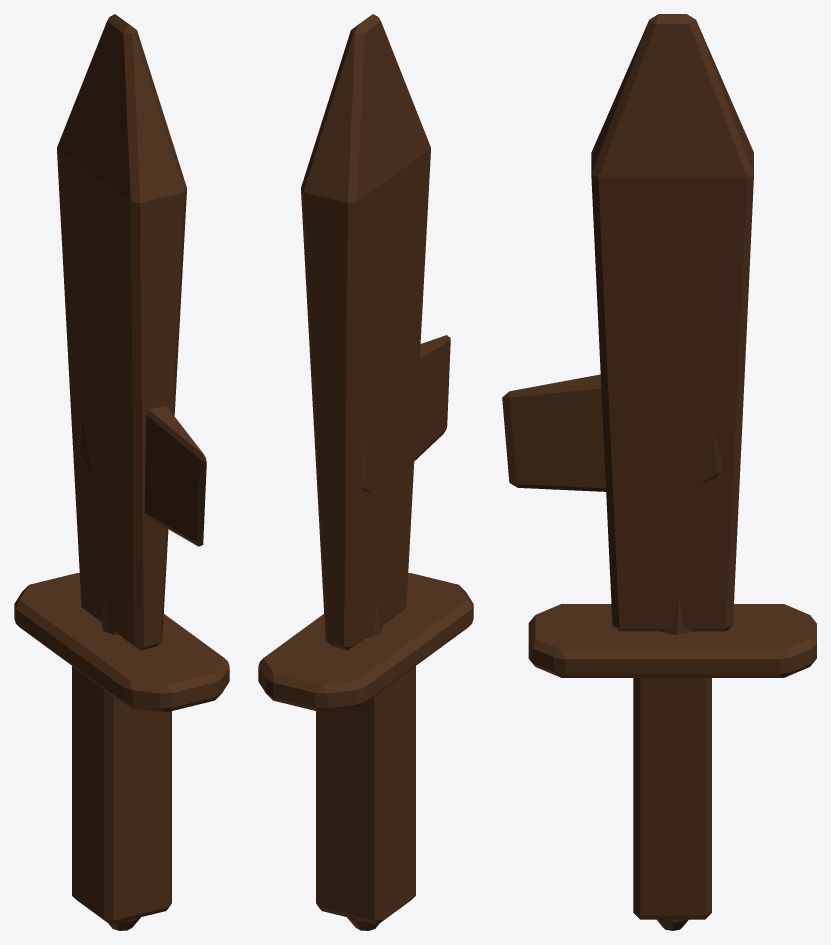
Rendered from wood_sword.glb.
3 renders of one model, left to right at view 1: azimuth 30°, elevation 25°; view 2: azimuth 150°, elevation 25°; view 3: azimuth 270°, elevation 25°, orthographic.
Visible parts, largest first — view 1: Cube.001, Cylinder; view 2: Cube.001, Cylinder; view 3: Cube.001, Cylinder.
Part boxes in pixels (bbox=[...]): Cube.001: bbox=[14, 14, 229, 924]; Cylinder: bbox=[78, 405, 206, 930]; Cube.001: bbox=[258, 14, 473, 924]; Cylinder: bbox=[347, 335, 450, 930]; Cube.001: bbox=[528, 14, 816, 919]; Cylinder: bbox=[502, 374, 723, 930].
Size of the model in its own units: 0.3983 by 3.28 by 1.02.
